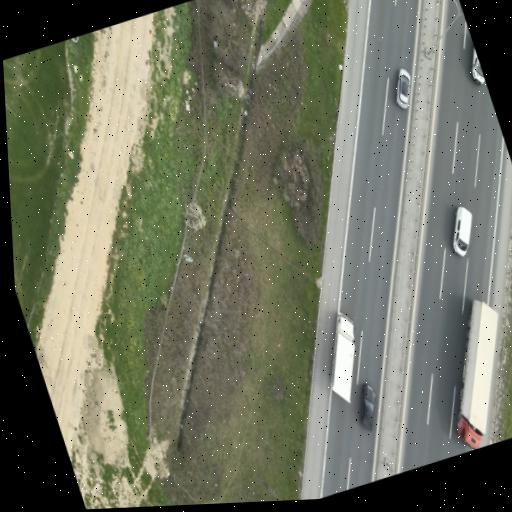car: (453, 207, 471, 256), (361, 386, 375, 431), (396, 69, 410, 108), (472, 48, 484, 84)
truck: (456, 301, 497, 449), (331, 314, 354, 403)
